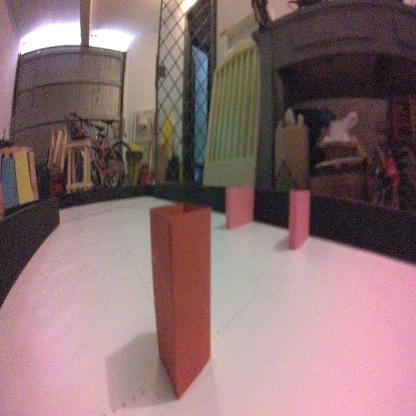magenta: (286, 185, 314, 257), (224, 184, 253, 229)
red: (148, 198, 212, 396)
